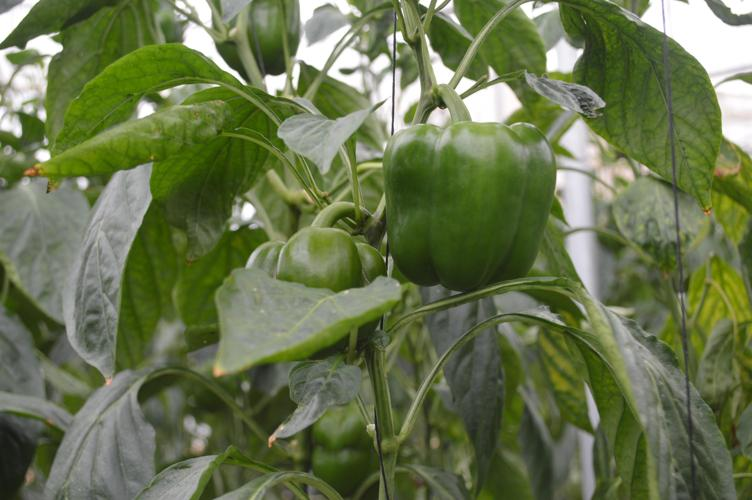BellPepper: (379, 122, 550, 288), (274, 408, 383, 500), (247, 231, 382, 291), (211, 4, 300, 70)
